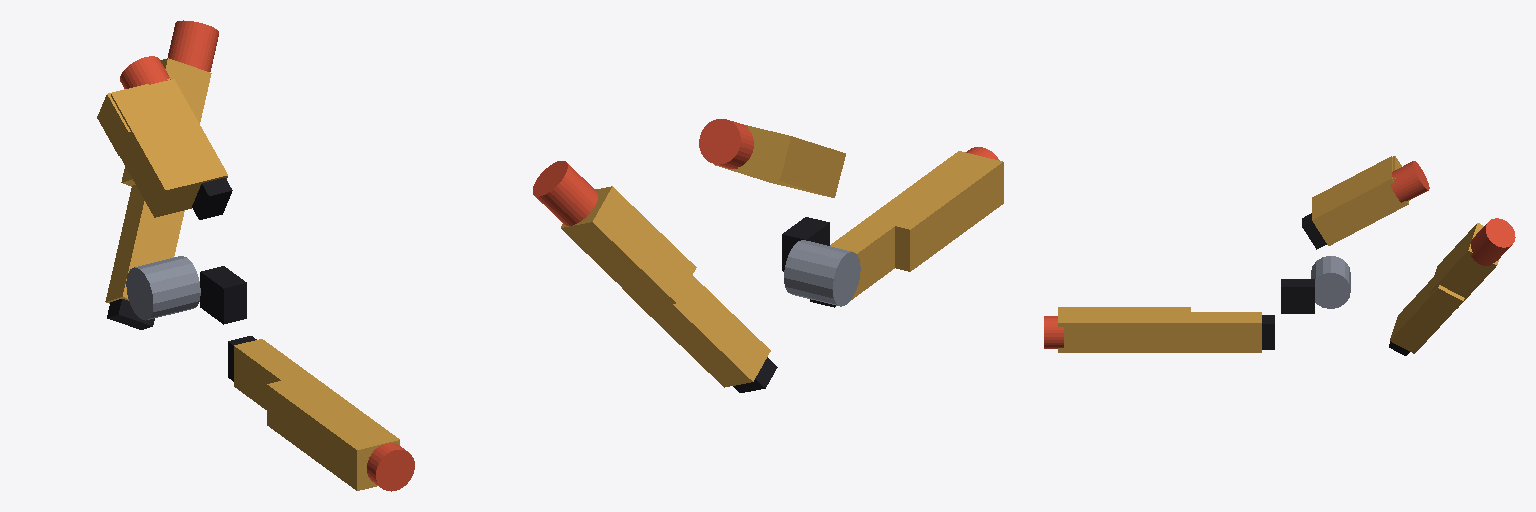
robot.urdf — g0005_c01:
<robot name="g0005_c01">
  <link name="palm">
    <visual name="palm_palm1">
      <origin xyz="0 0 0" rpy="0 0 0" />
      <geometry>
        <mesh filename="palm_palm1.obj" />
      </geometry>
      <material name="palm_palm1_mat">
        <color rgba="0.55 0.57 0.62 1" />
      </material>
    </visual>
    <collision>
      <origin xyz="0 0 0" rpy="0 0 0" />
      <geometry>
        <mesh filename="palm_palm1.obj" />
      </geometry>
    </collision>
    <visual name="palm_mount2">
      <origin xyz="0 0 0" rpy="0 0 0" />
      <geometry>
        <mesh filename="palm_mount2.obj" />
      </geometry>
      <material name="palm_mount2_mat">
        <color rgba="0.55 0.57 0.62 1" />
      </material>
    </visual>
    <collision>
      <origin xyz="0 0 0" rpy="0 0 0" />
      <geometry>
        <mesh filename="palm_mount2.obj" />
      </geometry>
    </collision>
    <visual name="palm_hinge3">
      <origin xyz="0 -0.0325 0" rpy="-0 -1.57079633 0" />
      <geometry>
        <box size="0.029 0.034 0.02" />
      </geometry>
      <material name="palm_hinge3_mat">
        <color rgba="0.15 0.15 0.17 1" />
      </material>
    </visual>
    <collision>
      <origin xyz="0 -0.0325 0" rpy="-0 -1.57079633 0" />
      <geometry>
        <box size="0.029 0.034 0.02" />
      </geometry>
    </collision>
    <visual name="palm_motor4">
      <origin xyz="0 -0.00649519053 0.07625" rpy="-1.57079633 1.04719755 1.57079633" />
      <geometry>
        <box size="0.029 0.034 0.02" />
      </geometry>
      <material name="palm_motor4_mat">
        <color rgba="0.15 0.15 0.17 1" />
      </material>
    </visual>
    <collision>
      <origin xyz="0 -0.00649519053 0.07625" rpy="-1.57079633 1.04719755 1.57079633" />
      <geometry>
        <box size="0.029 0.034 0.02" />
      </geometry>
    </collision>
    <visual name="palm_motor5">
      <origin xyz="-0.0117894192 0.0767524047 -0.045625" rpy="-2.15879893 0.447832397 -0.281034902" />
      <geometry>
        <box size="0.029 0.034 0.02" />
      </geometry>
      <material name="palm_motor5_mat">
        <color rgba="0.15 0.15 0.17 1" />
      </material>
    </visual>
    <collision>
      <origin xyz="-0.0117894192 0.0767524047 -0.045625" rpy="-2.15879893 0.447832397 -0.281034902" />
      <geometry>
        <box size="0.029 0.034 0.02" />
      </geometry>
    </collision>
    <inertial>
      <origin xyz="0 0.0181547776 -0.000633617801" rpy="1.57079633 1.08109355 1.57079633" />
      <mass value="0.650108091" />
      <inertia ixx="0.000584960462" ixy="0" ixz="0" iyy="0.00137732865" iyz="0" izz="0.00189987874" />
    </inertial>
  </link>
  <link name="palm0">
    <visual name="palm0_palm1">
      <origin xyz="0 0 0" rpy="0 0 0" />
      <geometry>
        <mesh filename="palm0_palm1.obj" />
      </geometry>
      <material name="palm0_palm1_mat">
        <color rgba="0.55 0.57 0.62 1" />
      </material>
    </visual>
    <collision>
      <origin xyz="0 0 0" rpy="0 0 0" />
      <geometry>
        <mesh filename="palm0_palm1.obj" />
      </geometry>
    </collision>
    <visual name="palm0_motor2">
      <origin xyz="0 -0.0325 -0.04" rpy="-0 -1.57079633 0" />
      <geometry>
        <box size="0.029 0.034 0.02" />
      </geometry>
      <material name="palm0_motor2_mat">
        <color rgba="0.15 0.15 0.17 1" />
      </material>
    </visual>
    <collision>
      <origin xyz="0 -0.0325 -0.04" rpy="-0 -1.57079633 0" />
      <geometry>
        <box size="0.029 0.034 0.02" />
      </geometry>
    </collision>
    <inertial>
      <origin xyz="0 -0.0234294019 -0.017062045" rpy="-1.57079633 1.35410722 -1.57079633" />
      <mass value="0.151239173" />
      <inertia ixx="2.78271684e-05" ixy="0" ixz="0" iyy="0.000125429766" iyz="0" izz="0.000138737974" />
    </inertial>
  </link>
  <link name="f0_link0">
    <visual name="f0_link0_link1">
      <origin xyz="0.03375 0 0" rpy="0 -0 0" />
      <geometry>
        <box size="0.0915 0.024 0.033" />
      </geometry>
      <material name="f0_link0_link1_mat">
        <color rgba="0.80 0.62 0.30 1" />
      </material>
    </visual>
    <collision>
      <origin xyz="0.03375 0 0" rpy="0 -0 0" />
      <geometry>
        <box size="0.0915 0.024 0.033" />
      </geometry>
    </collision>
    <inertial>
      <origin xyz="0.03375 0 0" rpy="0 0 0" />
      <mass value="0.126819" />
      <inertia ixx="1.75961363e-05" ixy="0" ixz="0" iyy="9.99888553e-05" iyz="0" izz="9.45673431e-05" />
    </inertial>
  </link>
  <link name="f0_link1">
    <visual name="f0_link1_link1">
      <origin xyz="0.014 -0.00625 0" rpy="0 -0 0" />
      <geometry>
        <box size="0.052 0.0365 0.033" />
      </geometry>
      <material name="f0_link1_link1_mat">
        <color rgba="0.80 0.62 0.30 1" />
      </material>
    </visual>
    <collision>
      <origin xyz="0.014 -0.00625 0" rpy="0 -0 0" />
      <geometry>
        <box size="0.052 0.0365 0.033" />
      </geometry>
    </collision>
    <inertial>
      <origin xyz="0.014 -0.00625 0" rpy="0 0 0" />
      <mass value="0.1096095" />
      <inertia ixx="2.21160002e-05" ixy="0" ixz="0" iyy="3.46457361e-05" iyz="0" izz="3.6867612e-05" />
    </inertial>
  </link>
  <link name="f0_link2">
    <visual name="f0_link2_link1">
      <origin xyz="0.019 -0.00625 0" rpy="0 -0 0" />
      <geometry>
        <box size="0.062 0.0365 0.033" />
      </geometry>
      <material name="f0_link2_link1_mat">
        <color rgba="0.80 0.62 0.30 1" />
      </material>
    </visual>
    <collision>
      <origin xyz="0.019 -0.00625 0" rpy="0 -0 0" />
      <geometry>
        <box size="0.062 0.0365 0.033" />
      </geometry>
    </collision>
    <inertial>
      <origin xyz="0.019 -0.00625 0" rpy="0 0 0" />
      <mass value="0.13068825" />
      <inertia ixx="2.63690771e-05" ixy="0" ixz="0" iyy="5.37237614e-05" iyz="0" izz="5.63729212e-05" />
    </inertial>
  </link>
  <link name="f0_link3">
    <visual name="f0_link3_link1">
      <origin xyz="0.019 -0.00625 0" rpy="0 -0 0" />
      <geometry>
        <box size="0.062 0.0365 0.033" />
      </geometry>
      <material name="f0_link3_link1_mat">
        <color rgba="0.80 0.62 0.30 1" />
      </material>
    </visual>
    <collision>
      <origin xyz="0.019 -0.00625 0" rpy="0 -0 0" />
      <geometry>
        <box size="0.062 0.0365 0.033" />
      </geometry>
    </collision>
    <inertial>
      <origin xyz="0.019 -0.00625 0" rpy="0 0 0" />
      <mass value="0.13068825" />
      <inertia ixx="2.63690771e-05" ixy="0" ixz="0" iyy="5.37237614e-05" iyz="0" izz="5.63729212e-05" />
    </inertial>
  </link>
  <link name="f0_link4">
    <visual name="f0_link4_link1">
      <origin xyz="0.014 0 0" rpy="-1.57079633 -0 -1.57079633" />
      <geometry>
        <cylinder radius="0.0165" length="0.019" />
      </geometry>
      <material name="f0_link4_link1_mat">
        <color rgba="0.85 0.35 0.25 1" />
      </material>
    </visual>
    <collision>
      <origin xyz="0.014 0 0" rpy="-1.57079633 -0 -1.57079633" />
      <geometry>
        <cylinder radius="0.0165" length="0.019" />
      </geometry>
    </collision>
    <inertial>
      <origin xyz="0.014 0 0" rpy="0 0 0" />
      <mass value="0.0613676745" />
      <inertia ixx="7.45718278e-06" ixy="0" ixz="0" iyy="1.32201625e-05" iyz="0" izz="1.32201625e-05" />
    </inertial>
  </link>
  <link name="f1_link0">
    <visual name="f1_link0_link1">
      <origin xyz="0.03375 -0.0145 0" rpy="0 -7.03853194e-17 0" />
      <geometry>
        <box size="0.0915 0.053 0.033" />
      </geometry>
      <material name="f1_link0_link1_mat">
        <color rgba="0.80 0.62 0.30 1" />
      </material>
    </visual>
    <collision>
      <origin xyz="0.03375 -0.0145 0" rpy="0 -7.03853194e-17 0" />
      <geometry>
        <box size="0.0915 0.053 0.033" />
      </geometry>
    </collision>
    <inertial>
      <origin xyz="0.03375 -0.0145 0" rpy="0 0 0" />
      <mass value="0.280058625" />
      <inertia ixx="9.09723767e-05" ixy="0" ixz="0" iyy="0.000220808722" iyz="0" izz="0.000260950458" />
    </inertial>
  </link>
  <link name="f1_link1">
    <visual name="f1_link1_link1">
      <origin xyz="-0.00625 -0.0165 1.38777878e-17" rpy="0 -7.03853194e-17 0" />
      <geometry>
        <box size="0.0365 0.053 0.029" />
      </geometry>
      <material name="f1_link1_link1_mat">
        <color rgba="0.80 0.62 0.30 1" />
      </material>
    </visual>
    <collision>
      <origin xyz="-0.00625 -0.0165 1.38777878e-17" rpy="0 -7.03853194e-17 0" />
      <geometry>
        <box size="0.0365 0.053 0.029" />
      </geometry>
    </collision>
    <inertial>
      <origin xyz="-0.00625 -0.0165 0" rpy="0 0 0" />
      <mass value="0.098175875" />
      <inertia ixx="2.98618286e-05" ixy="0" ixz="0" iyy="1.778006e-05" iyz="0" izz="3.38809035e-05" />
    </inertial>
  </link>
  <link name="f1_link2">
    <visual name="f1_link2_link1">
      <origin xyz="0.019 0 6.9388939e-18" rpy="-1.57079633 -0 -1.57079633" />
      <geometry>
        <cylinder radius="0.0165" length="0.029" />
      </geometry>
      <material name="f1_link2_link1_mat">
        <color rgba="0.85 0.35 0.25 1" />
      </material>
    </visual>
    <collision>
      <origin xyz="0.019 0 6.9388939e-18" rpy="-1.57079633 -0 -1.57079633" />
      <geometry>
        <cylinder radius="0.0165" length="0.029" />
      </geometry>
    </collision>
    <inertial>
      <origin xyz="0.019 0 0" rpy="0 0 0" />
      <mass value="0.0763354" />
      <inertia ixx="9.49466441e-06" ixy="0" ixz="0" iyy="2.24143997e-05" iyz="0" izz="2.24143997e-05" />
    </inertial>
  </link>
  <link name="f2_link0">
    <visual name="f2_link0_link1">
      <origin xyz="0.04375 -3.46944695e-18 -1.38777878e-17" rpy="-2.03184915e-17 -2.77555756e-17 2.13148719e-17" />
      <geometry>
        <box size="0.1115 0.033 0.029" />
      </geometry>
      <material name="f2_link0_link1_mat">
        <color rgba="0.80 0.62 0.30 1" />
      </material>
    </visual>
    <collision>
      <origin xyz="0.04375 -3.46944695e-18 -1.38777878e-17" rpy="-2.03184915e-17 -2.77555756e-17 2.13148719e-17" />
      <geometry>
        <box size="0.1115 0.033 0.029" />
      </geometry>
    </collision>
    <inertial>
      <origin xyz="0.04375 0 0" rpy="0 0 0" />
      <mass value="0.186734625" />
      <inertia ixx="3.00331522e-05" ixy="0" ixz="0" iyy="0.000206547947" iyz="0" izz="0.000210407129" />
    </inertial>
  </link>
  <link name="f2_link1">
    <visual name="f2_link1_link1">
      <origin xyz="0.014 -0.00625 -1.38777878e-17" rpy="-2.03184915e-17 -2.77555756e-17 2.13148719e-17" />
      <geometry>
        <box size="0.052 0.0365 0.033" />
      </geometry>
      <material name="f2_link1_link1_mat">
        <color rgba="0.80 0.62 0.30 1" />
      </material>
    </visual>
    <collision>
      <origin xyz="0.014 -0.00625 -1.38777878e-17" rpy="-2.03184915e-17 -2.77555756e-17 2.13148719e-17" />
      <geometry>
        <box size="0.052 0.0365 0.033" />
      </geometry>
    </collision>
    <inertial>
      <origin xyz="0.014 -0.00625 0" rpy="0 0 0" />
      <mass value="0.1096095" />
      <inertia ixx="2.21160002e-05" ixy="0" ixz="0" iyy="3.46457361e-05" iyz="0" izz="3.6867612e-05" />
    </inertial>
  </link>
  <link name="f2_link2">
    <visual name="f2_link2_link1">
      <origin xyz="0.019 -0.00625 -1.38777878e-17" rpy="-2.03184915e-17 -2.77555756e-17 2.13148719e-17" />
      <geometry>
        <box size="0.062 0.0365 0.033" />
      </geometry>
      <material name="f2_link2_link1_mat">
        <color rgba="0.80 0.62 0.30 1" />
      </material>
    </visual>
    <collision>
      <origin xyz="0.019 -0.00625 -1.38777878e-17" rpy="-2.03184915e-17 -2.77555756e-17 2.13148719e-17" />
      <geometry>
        <box size="0.062 0.0365 0.033" />
      </geometry>
    </collision>
    <inertial>
      <origin xyz="0.019 -0.00625 0" rpy="0 0 0" />
      <mass value="0.13068825" />
      <inertia ixx="2.63690771e-05" ixy="0" ixz="0" iyy="5.37237614e-05" iyz="0" izz="5.63729212e-05" />
    </inertial>
  </link>
  <link name="f2_link3">
    <visual name="f2_link3_link1">
      <origin xyz="0.024 3.46944695e-18 -1.38777878e-17" rpy="-1.57079633 -0 -1.57079633" />
      <geometry>
        <cylinder radius="0.0165" length="0.039" />
      </geometry>
      <material name="f2_link3_link1_mat">
        <color rgba="0.85 0.35 0.25 1" />
      </material>
    </visual>
    <collision>
      <origin xyz="0.024 3.46944695e-18 -1.38777878e-17" rpy="-1.57079633 -0 -1.57079633" />
      <geometry>
        <cylinder radius="0.0165" length="0.039" />
      </geometry>
    </collision>
    <inertial>
      <origin xyz="0.024 0 0" rpy="0 0 0" />
      <mass value="0.0913031255" />
      <inertia ixx="1.1532146e-05" ixy="0" ixz="0" iyy="3.54254069e-05" iyz="0" izz="3.54254069e-05" />
    </inertial>
  </link>
  <joint name="palm0_joint" type="revolute">
    <parent link="palm" />
    <child link="palm0" />
    <origin xyz="0 -0.04 0" rpy="0 0 0" />
    <axis xyz="0 0 1" />
    <limit effort="0.5" lower="-0.523598776" upper="0.523598776" velocity="5" />
    <dynamics damping="0.0775033" friction="0" />
  </joint>
  <joint name="f0_j0" type="revolute">
    <parent link="palm0" />
    <child link="f0_link0" />
    <origin xyz="0 -0.04 -0.04" rpy="0 1.8369702e-16 -1.57079633" />
    <axis xyz="0 0 1" />
    <limit effort="0.5" lower="-0.523598776" upper="1.57079633" velocity="5" />
    <dynamics damping="0.0775033" friction="0" />
  </joint>
  <joint name="f0_j1" type="revolute">
    <parent link="f0_link0" />
    <child link="f0_link1" />
    <origin xyz="0.07 0 0" rpy="0 0 0" />
    <axis xyz="0 0 1" />
    <limit effort="0.5" lower="-0.523598776" upper="1.57079633" velocity="5" />
    <dynamics damping="0.0775033" friction="0" />
  </joint>
  <joint name="f0_j2" type="revolute">
    <parent link="f0_link1" />
    <child link="f0_link2" />
    <origin xyz="0.03 0 0" rpy="0 0 0" />
    <axis xyz="0 0 1" />
    <limit effort="0.5" lower="-0.523598776" upper="1.57079633" velocity="5" />
    <dynamics damping="0.0775033" friction="0" />
  </joint>
  <joint name="f0_j3" type="revolute">
    <parent link="f0_link2" />
    <child link="f0_link3" />
    <origin xyz="0.04 0 0" rpy="0 0 0" />
    <axis xyz="0 0 1" />
    <limit effort="0.5" lower="-0.523598776" upper="1.57079633" velocity="5" />
    <dynamics damping="0.0775033" friction="0" />
  </joint>
  <joint name="f0_j4" type="revolute">
    <parent link="f0_link3" />
    <child link="f0_link4" />
    <origin xyz="0.04 0 0" rpy="0 0 0" />
    <axis xyz="0 0 1" />
    <limit effort="0.5" lower="-0.523598776" upper="1.57079633" velocity="5" />
    <dynamics damping="0.0775033" friction="0" />
  </joint>
  <joint name="f1_j0" type="revolute">
    <parent link="palm" />
    <child link="f1_link0" />
    <origin xyz="0 0 0.08" rpy="-3.14159265 -0.523598776 1.57079633" />
    <axis xyz="0 0 1" />
    <limit effort="0.5" lower="-0.523598776" upper="1.57079633" velocity="5" />
    <dynamics damping="0.0775033" friction="0" />
  </joint>
  <joint name="f1_j1" type="revolute">
    <parent link="f1_link0" />
    <child link="f1_link1" />
    <origin xyz="0.07 0 0" rpy="0 0 0" />
    <axis xyz="-0 -1 -6.123234e-17" />
    <limit effort="0.5" lower="-0.523598776" upper="0.523598776" velocity="5" />
    <dynamics damping="0.0775033" friction="0" />
  </joint>
  <joint name="f1_j2" type="revolute">
    <parent link="f1_link1" />
    <child link="f1_link2" />
    <origin xyz="0 0 0" rpy="0 0 0" />
    <axis xyz="0 0 1" />
    <limit effort="0.5" lower="-0.523598776" upper="1.57079633" velocity="5" />
    <dynamics damping="0.0775033" friction="0" />
  </joint>
  <joint name="f2_j0" type="revolute">
    <parent link="palm" />
    <child link="f2_link0" />
    <origin xyz="-0.00803941916 0.08 -0.04" rpy="-2.42786827 -0.848062079 0.713724379" />
    <axis xyz="-0 -1 -6.123234e-17" />
    <limit effort="0.5" lower="-0.523598776" upper="0.523598776" velocity="5" />
    <dynamics damping="0.0775033" friction="0" />
  </joint>
  <joint name="f2_j1" type="revolute">
    <parent link="f2_link0" />
    <child link="f2_link1" />
    <origin xyz="0.09 0 0" rpy="0 0 0" />
    <axis xyz="0 0 1" />
    <limit effort="0.5" lower="-0.523598776" upper="1.57079633" velocity="5" />
    <dynamics damping="0.0775033" friction="0" />
  </joint>
  <joint name="f2_j2" type="revolute">
    <parent link="f2_link1" />
    <child link="f2_link2" />
    <origin xyz="0.03 0 0" rpy="0 0 0" />
    <axis xyz="0 0 1" />
    <limit effort="0.5" lower="-0.523598776" upper="1.57079633" velocity="5" />
    <dynamics damping="0.0775033" friction="0" />
  </joint>
  <joint name="f2_j3" type="revolute">
    <parent link="f2_link2" />
    <child link="f2_link3" />
    <origin xyz="0.04 0 0" rpy="0 0 0" />
    <axis xyz="0 0 1" />
    <limit effort="0.5" lower="-0.523598776" upper="1.57079633" velocity="5" />
    <dynamics damping="0.0775033" friction="0" />
  </joint>
</robot>

--- Render facts (derived) ---
The picture shows the robot from 3 angles, left to right: view 1: azimuth 30°, elevation 25°; view 2: azimuth 150°, elevation 25°; view 3: azimuth 270°, elevation 25°; orthographic projection.
Model g0005_c01 with 14 links and 13 joints (13 revolute), rooted at palm, posed every joint at zero.
Links seen in each view (by area): view 1: f1_link0, palm, f2_link0, f0_link0, f0_link3, f0_link2, f0_link1, f2_link3, f0_link4, f2_link2, f1_link1, f1_link2; view 2: f2_link0, palm, f2_link2, f2_link1, f0_link1, f0_link0, f2_link3, f0_link3, f0_link2, f1_link1, f1_link0, f1_link2; view 3: f1_link0, f0_link0, palm, f2_link0, f0_link3, f0_link2, f0_link1, f2_link3, f2_link2, f1_link2, f2_link1, f0_link4.
Boxes of the visible links, box(x1,y1,x2,y2) form: f1_link0: box(111, 79, 227, 217); palm: box(107, 178, 246, 329); f2_link0: box(105, 185, 184, 303); f0_link0: box(234, 339, 324, 409); f0_link3: box(315, 412, 399, 490); f0_link2: box(287, 395, 372, 470); f0_link1: box(267, 375, 343, 448); f2_link3: box(168, 20, 218, 71); f0_link4: box(367, 443, 414, 491); f2_link2: box(160, 58, 211, 123); f1_link1: box(97, 78, 169, 155); f1_link2: box(120, 56, 170, 88); f2_link0: box(622, 275, 770, 387); palm: box(733, 217, 860, 392); f2_link2: box(561, 186, 667, 279); f2_link1: box(597, 222, 696, 308); f0_link1: box(868, 192, 946, 271); f0_link0: box(830, 208, 909, 299); f2_link3: box(533, 161, 597, 225); f0_link3: box(918, 151, 1003, 232); f0_link2: box(903, 172, 974, 249); f1_link1: box(738, 128, 812, 184); f1_link0: box(714, 124, 845, 197); f1_link2: box(699, 119, 753, 168); f1_link0: box(1312, 156, 1408, 245); f0_link0: box(1170, 312, 1261, 352); palm: box(1281, 213, 1409, 355); f2_link0: box(1390, 277, 1464, 353); f0_link3: box(1058, 307, 1120, 352); f0_link2: box(1099, 307, 1160, 352); f0_link1: box(1139, 307, 1190, 352); f2_link3: box(1471, 218, 1515, 265); f2_link2: box(1441, 223, 1498, 286); f1_link2: box(1390, 161, 1429, 202); f2_link1: box(1428, 253, 1479, 308); f0_link4: box(1044, 316, 1063, 348).
Size in the robot's own frame: 0.16 by 0.4664 by 0.2157 metres.
Meshes: 3 distinct files referenced, 1 mesh visuals loaded (1 OBJ); not drawn: 2 (reference not matched to a file when rendering).
